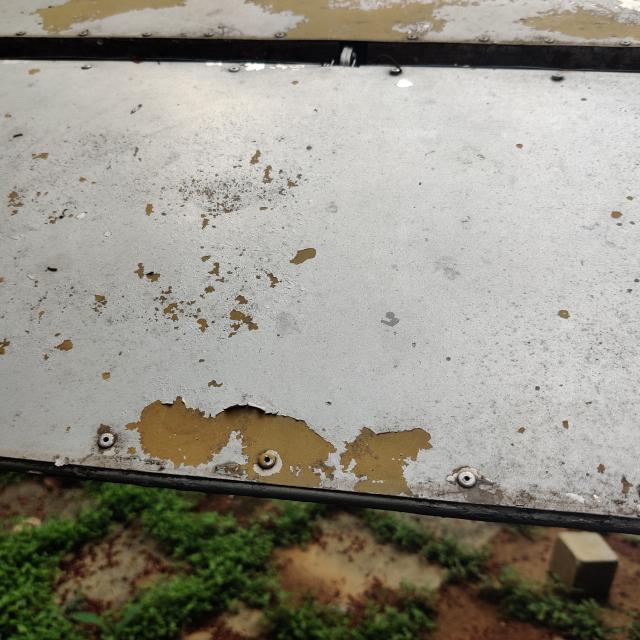paint-off: (117, 382, 448, 525)
